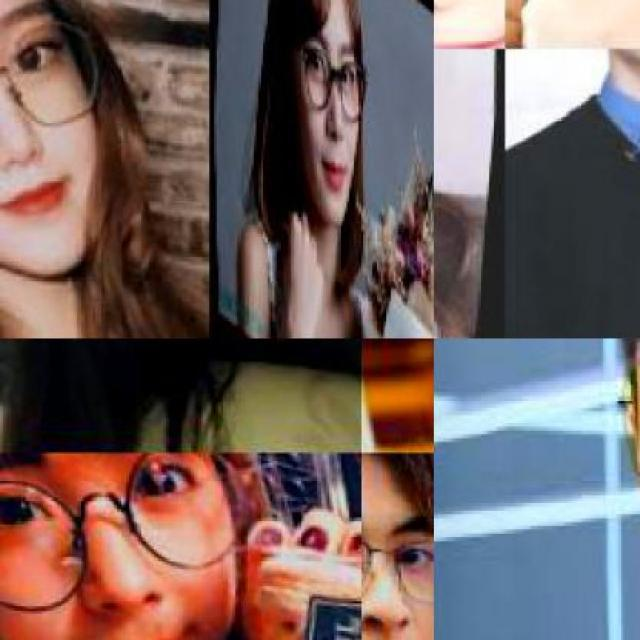mask: (0, 452, 260, 632), (0, 0, 102, 131), (360, 525, 433, 616), (292, 45, 365, 124)
